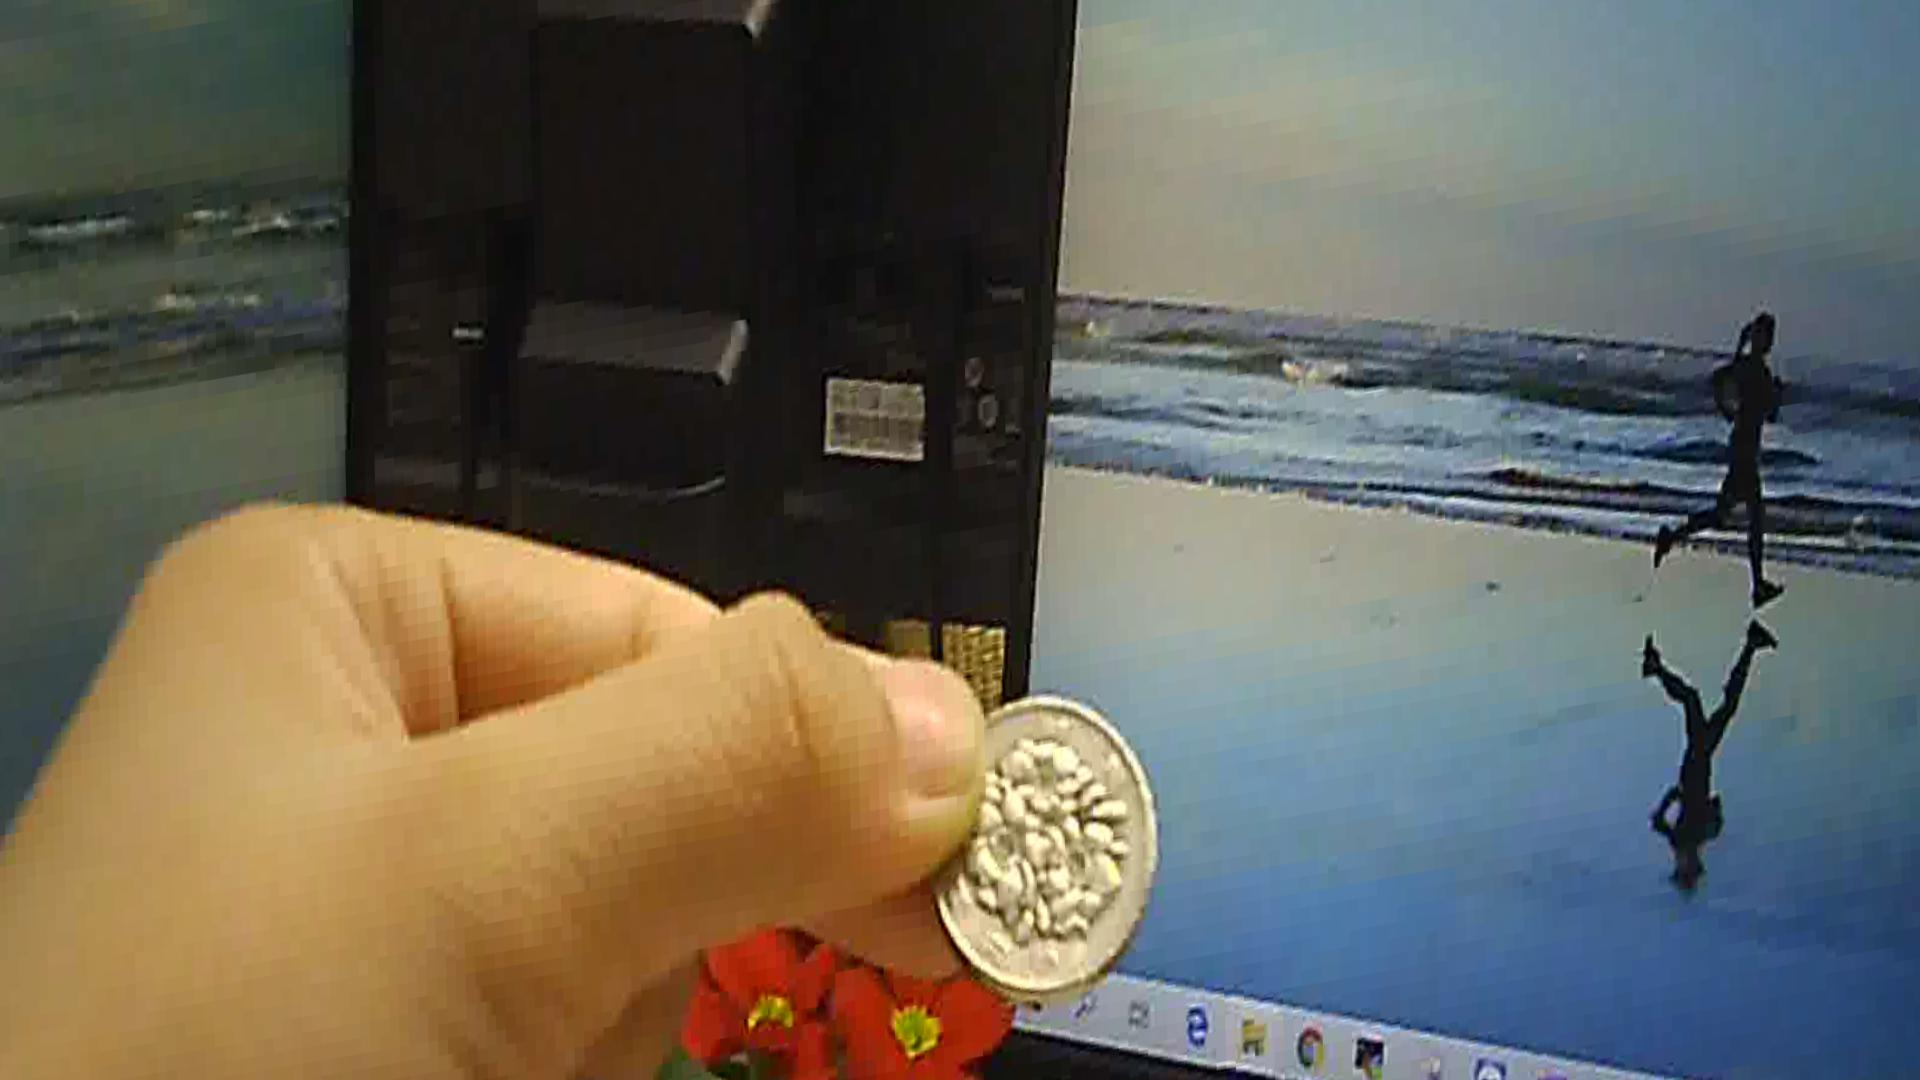100 Yen: (919, 671, 1166, 1004)
